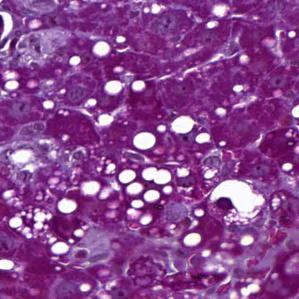ballooning: (209, 178, 267, 224)
